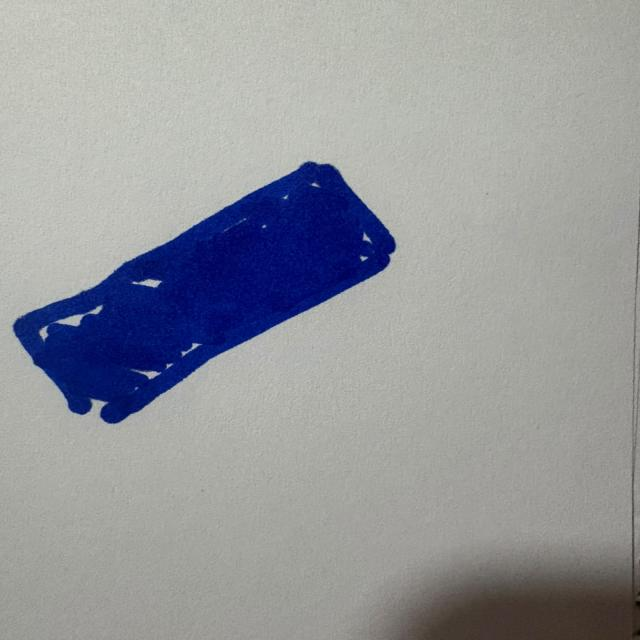Rectangle: (8, 152, 406, 428)
